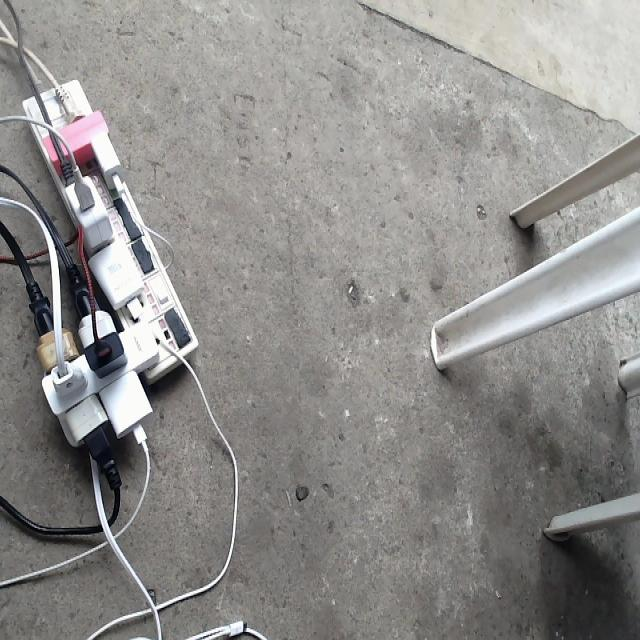-: (20, 76, 197, 496)
